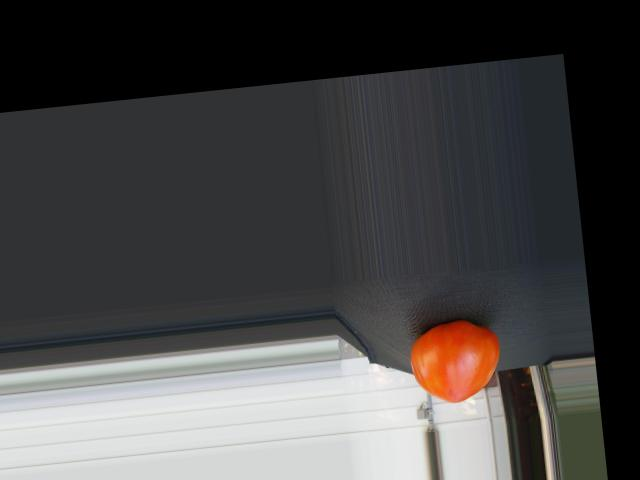tomato: (406, 316, 504, 407)
